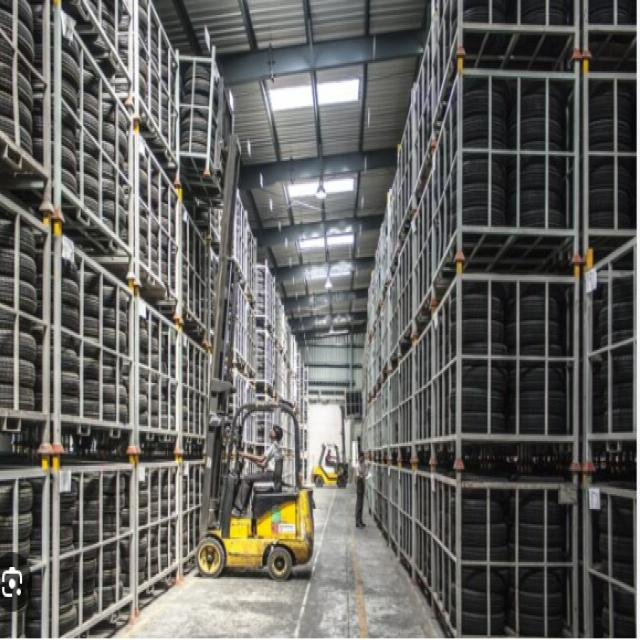shoes: (226, 505, 245, 519), (355, 520, 367, 532)
